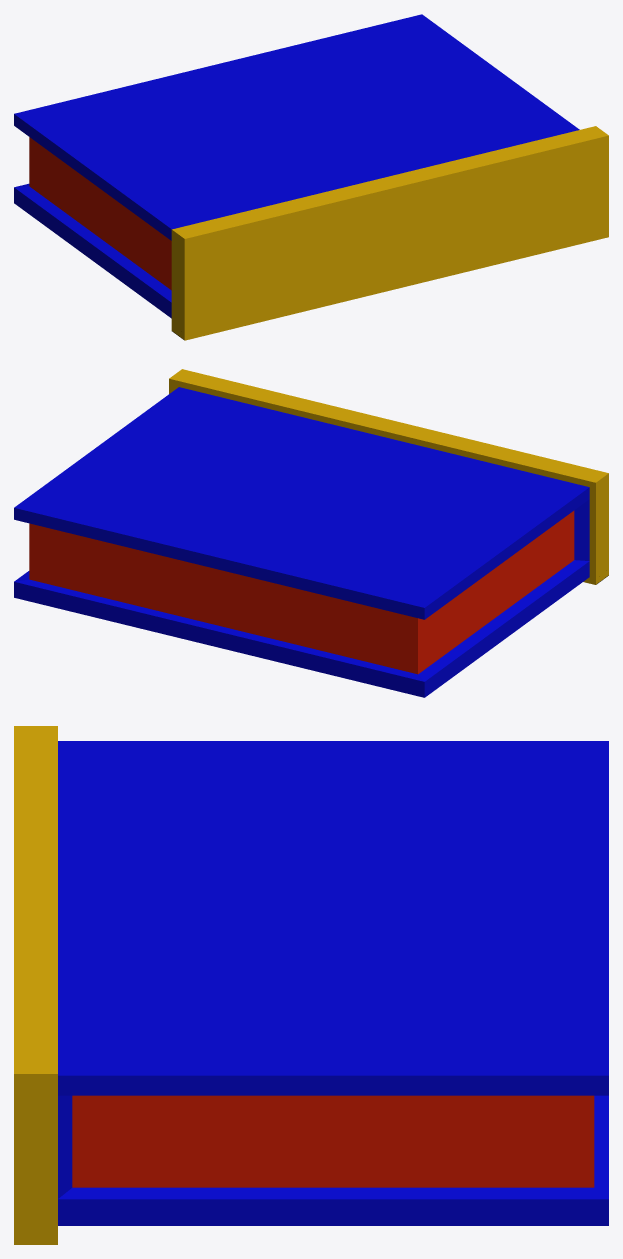
Rendered from SM_livreliste.fbx.
3 views of the same model, one above another, from view 1: azimuth 30°, elevation 25°; view 2: azimuth 150°, elevation 25°; view 3: azimuth 270°, elevation 25° (orthographic). The views are drawn at different scales.
Parts seen in each view (by area): view 1: pCube1; view 2: pCube1; view 3: pCube1.
Boxes of the visible parts, x1,y1,x2,y2 form: pCube1: [14, 14, 608, 340]; pCube1: [14, 369, 608, 697]; pCube1: [14, 726, 608, 1244].
Size of the model in its own units: 88.6 by 20.29 by 64.03.
